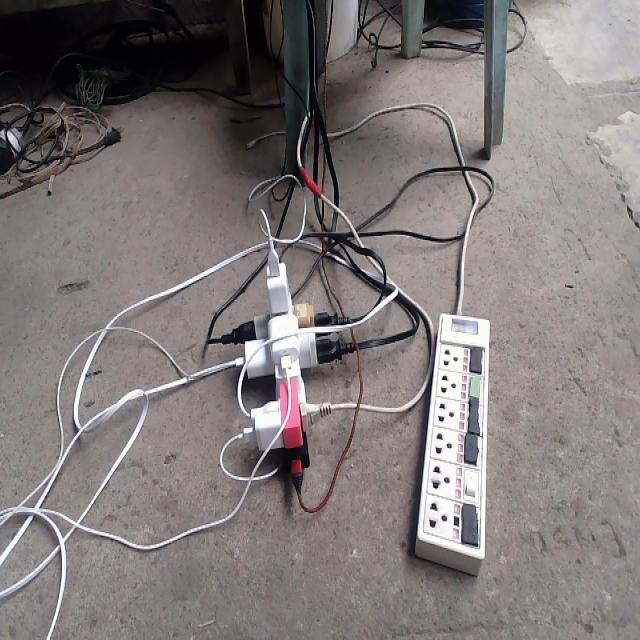-: (212, 227, 357, 501)
